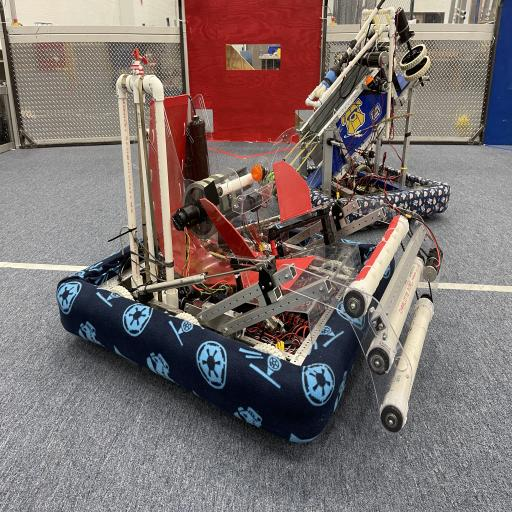robot: (52, 8, 453, 468), (267, 9, 448, 226)
